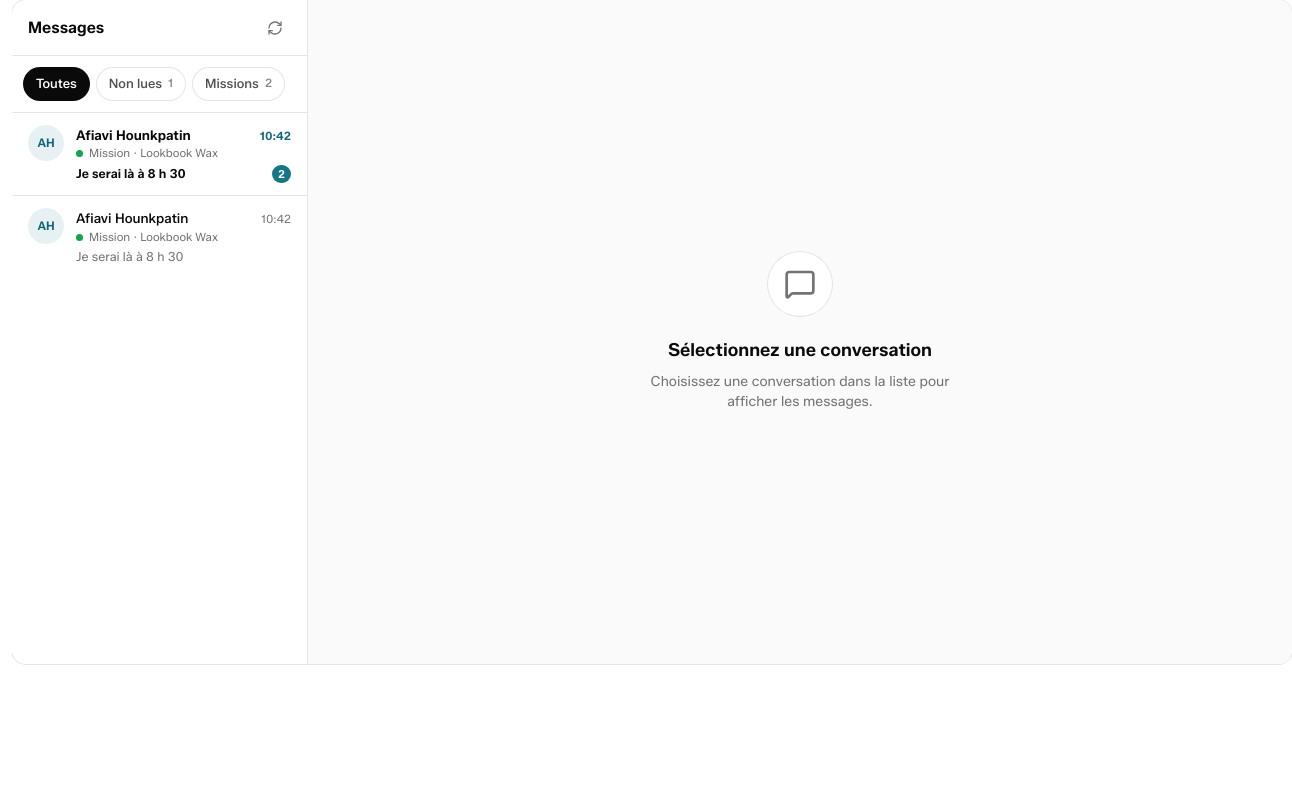
MessagesWorkspace — desktop › envoie un message : Entrée, ajout au fil et vidage du champ
Click the button with test id "conversation-item". click: (160, 154)
box: [12,113,307,195]
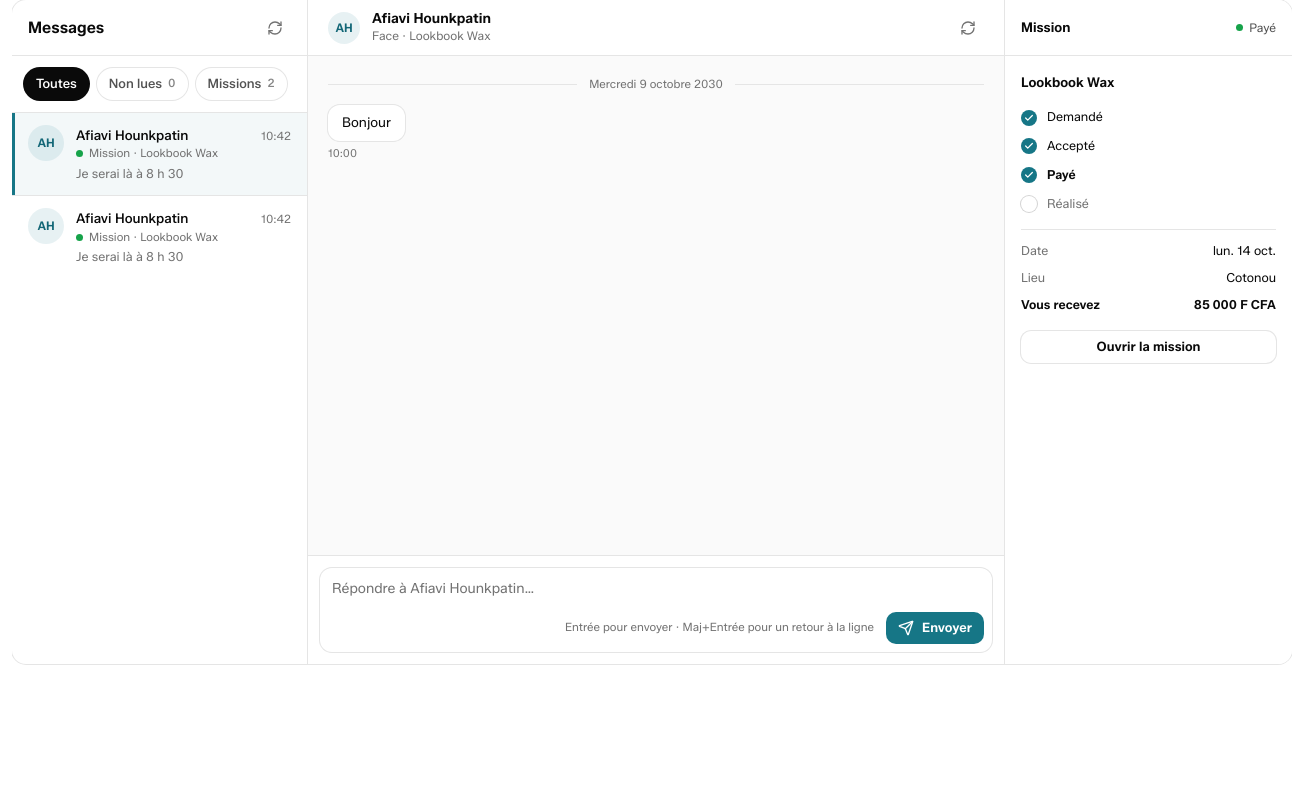
Type "Merci !" into the text box with placeholder "Répondre à Afiavi Hounkpatin…". click: (656, 590)
box: [320,568,992,612]
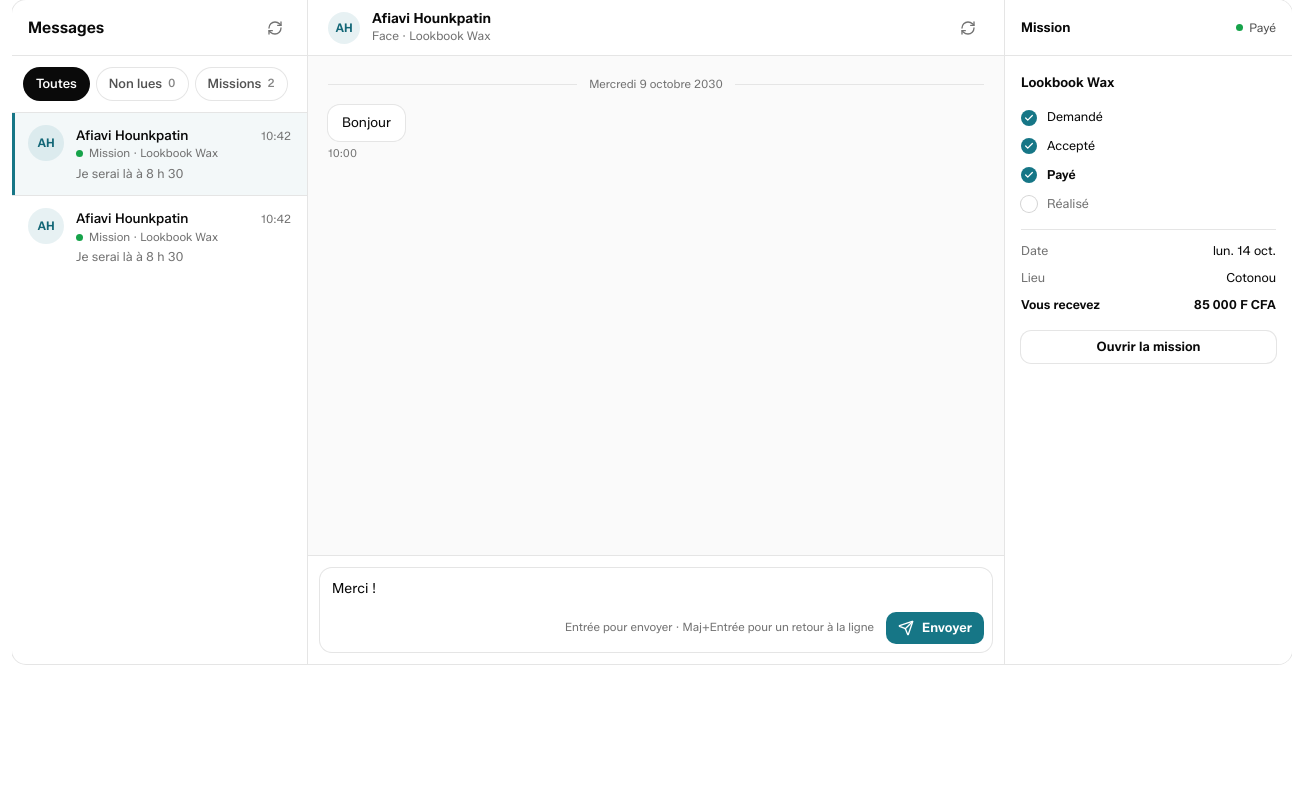
Press Enter in the text box named "Répondre à Afiavi Hounkpatin…", box [320,568,992,612]
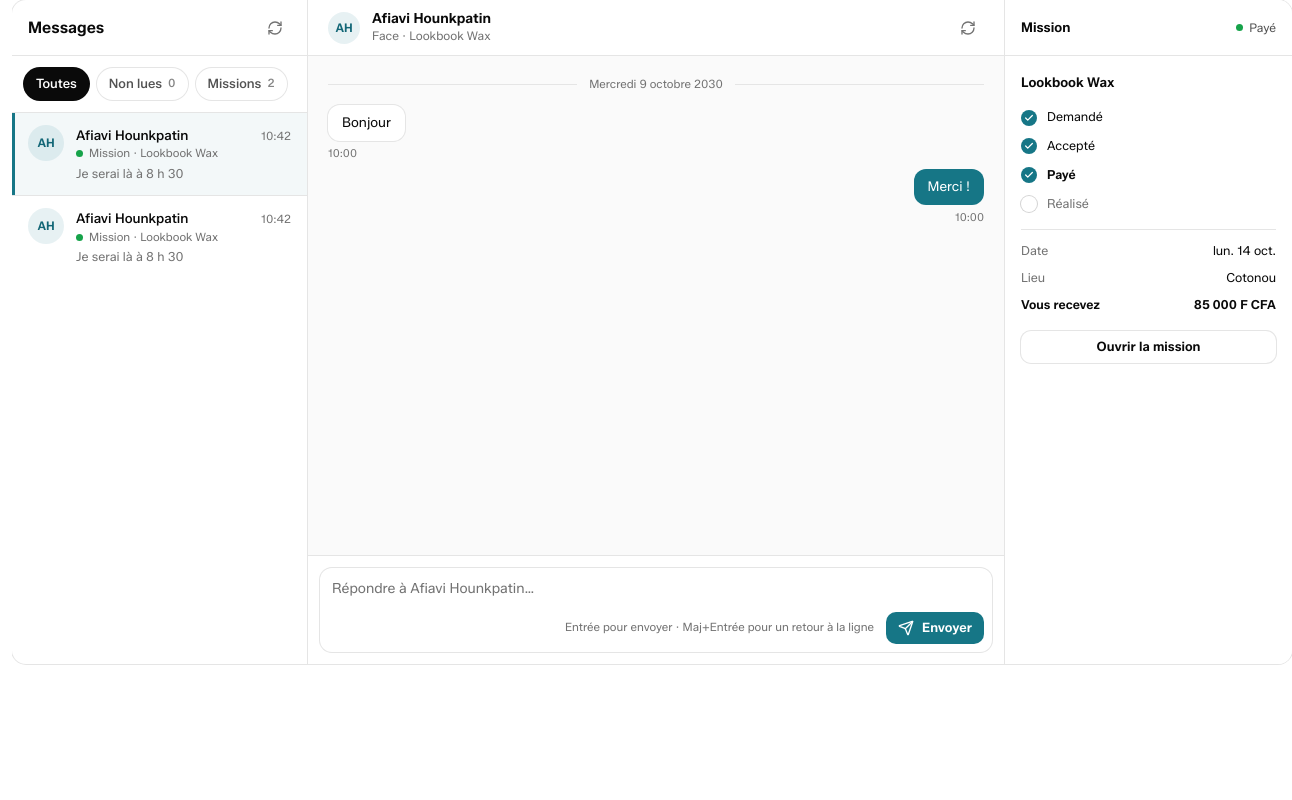
Expected: the text "Merci !" is shown, [914,169,984,205]
Expected: the text box with placeholder "Répondre à Afiavi Hounkpatin…" is empty, [320,568,992,612]
